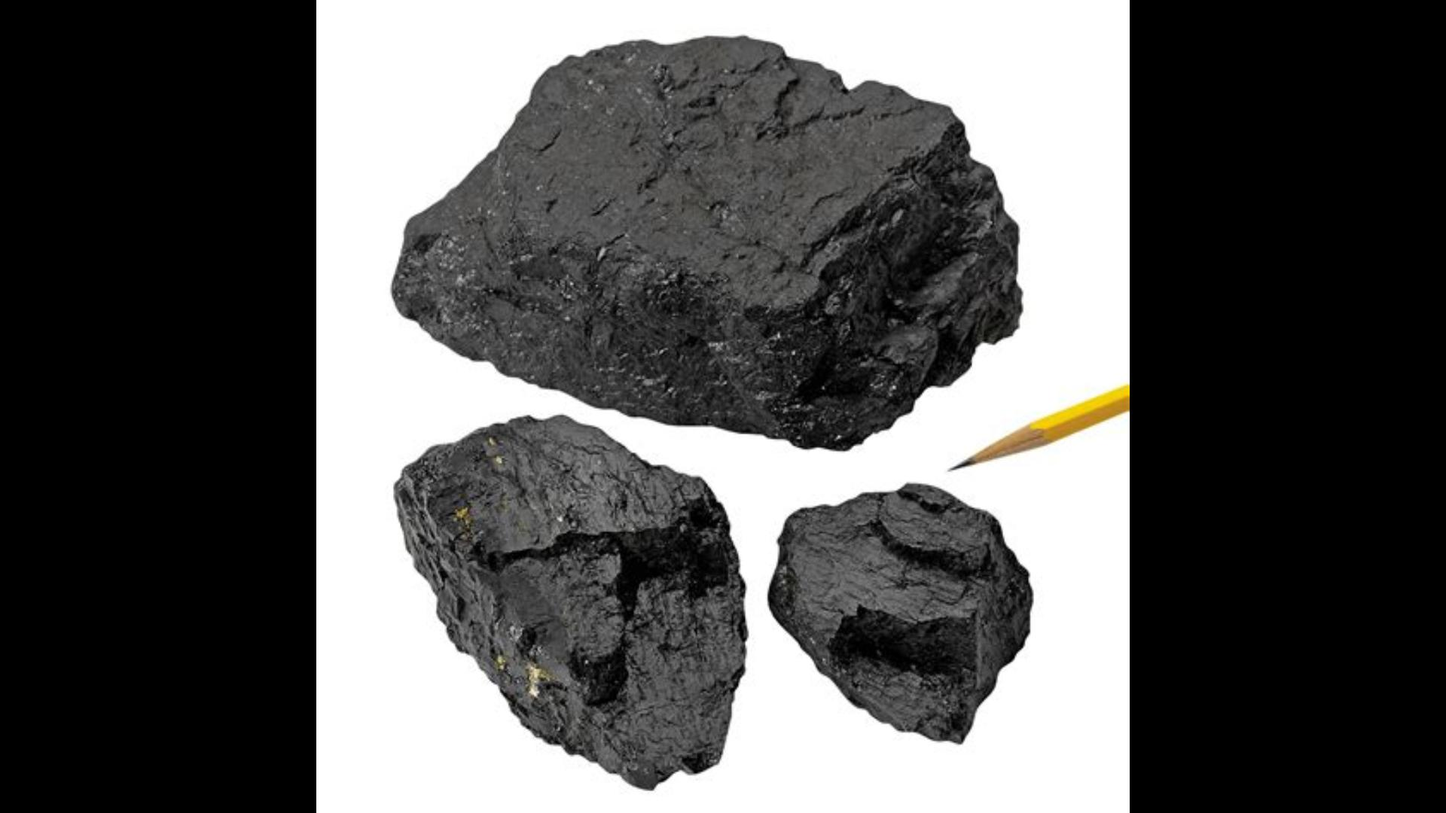rock: (395, 38, 1020, 448), (395, 417, 745, 787), (771, 484, 1028, 741)
